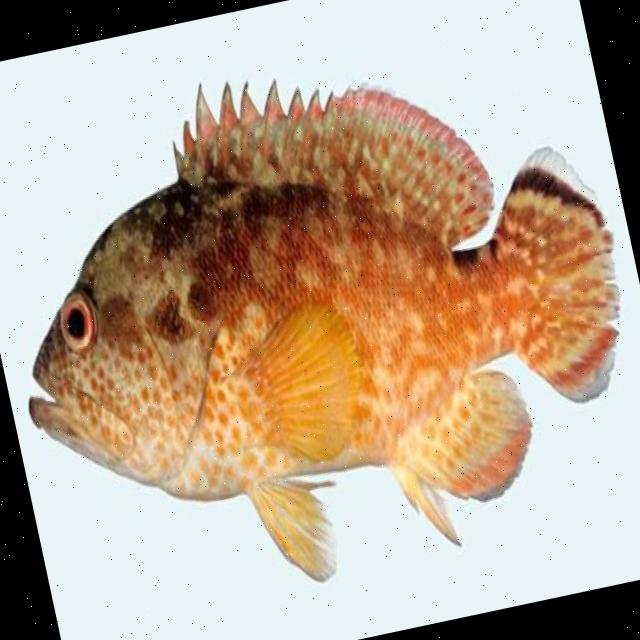ikan: (0, 2, 640, 635)
